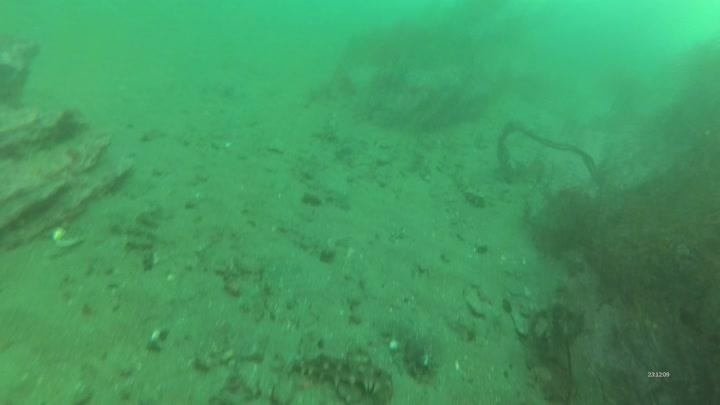holothurian: (285, 347, 396, 399)
